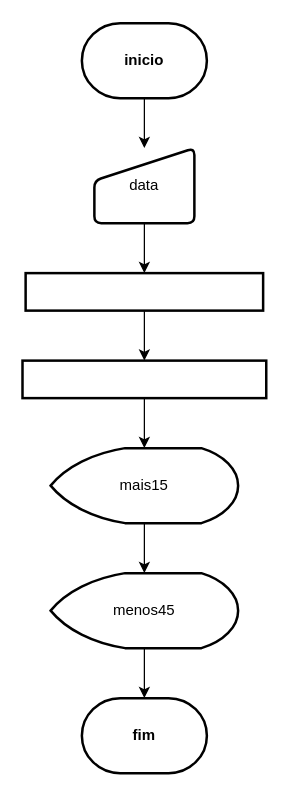
This 289x795 diagram has some shape labels left out. The shapes that lost their labels are listed below. From the top down, each one's box as (x1, y1, x2, y2) in pixels, then its label:
(24, 271, 264, 311): mais15 = data + 15 dias
(21, 359, 267, 399): menos45 = data - 45 dias
